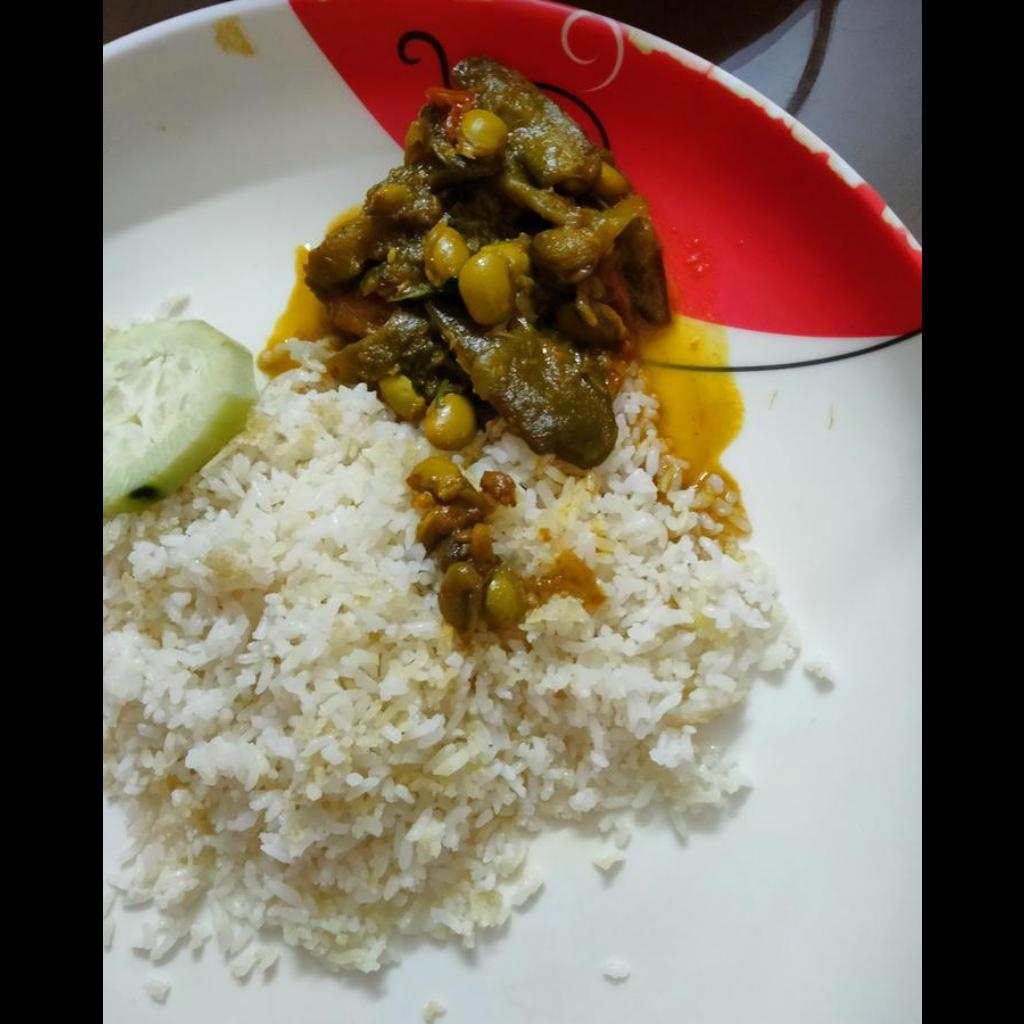beef: (301, 56, 645, 453)
cucumber: (102, 316, 256, 521)
rice: (104, 378, 800, 977)
